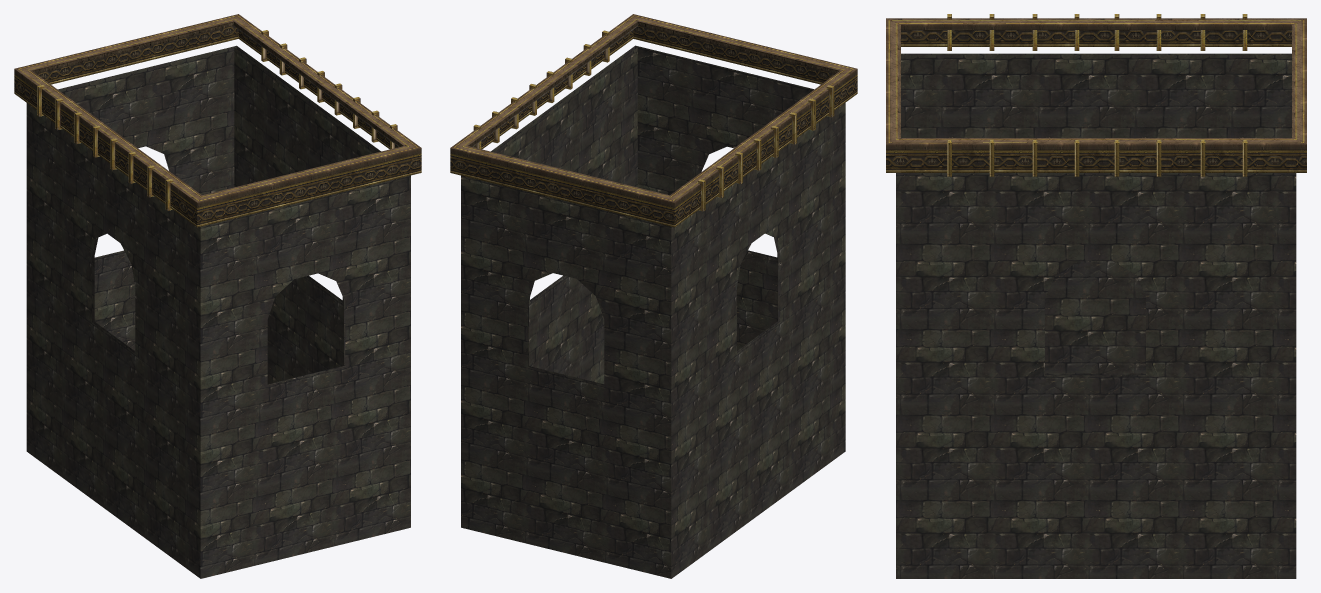
Rendered from A03_battle_a.FBX.
The picture shows the model from 3 angles, left to right: view 1: azimuth 30°, elevation 25°; view 2: azimuth 150°, elevation 25°; view 3: azimuth 270°, elevation 25°; orthographic projection. The views are drawn at different scales.
Visible parts, largest first — view 1: A03_battle_a; view 2: A03_battle_a; view 3: A03_battle_a.
Boxes of the visible parts, x1,y1,x2,y2 form: A03_battle_a: (14, 14, 421, 578); A03_battle_a: (450, 14, 857, 578); A03_battle_a: (886, 14, 1306, 578).
Bounding box in the file's own units: 9.2 × 14.67 × 12.69.
Materials: 2 (2 with a texture image).
